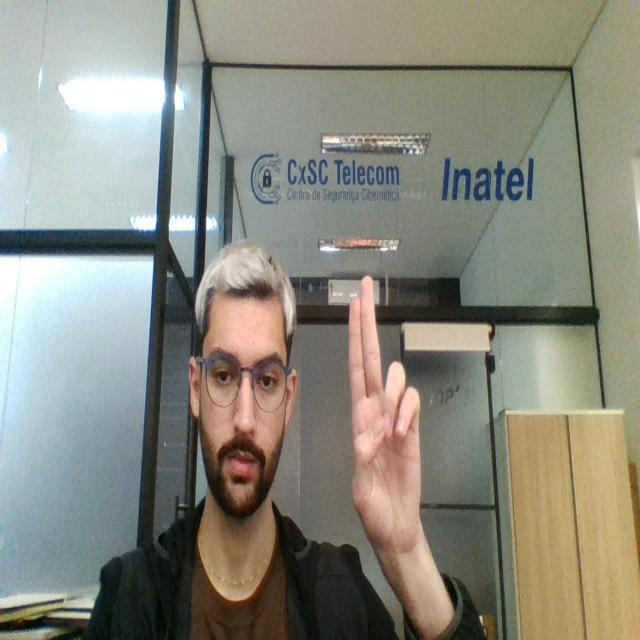U: (340, 265, 425, 553)
